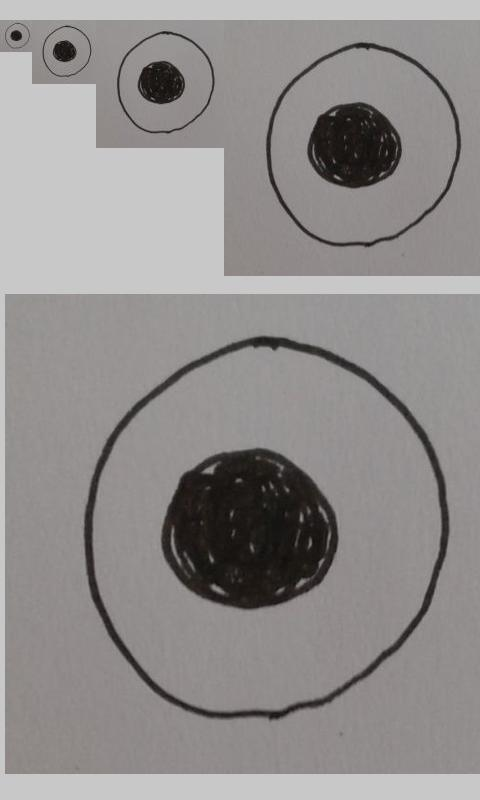radio_button: (82, 335, 452, 722), (264, 40, 463, 248), (116, 30, 215, 134), (41, 24, 93, 78), (4, 22, 31, 49)
